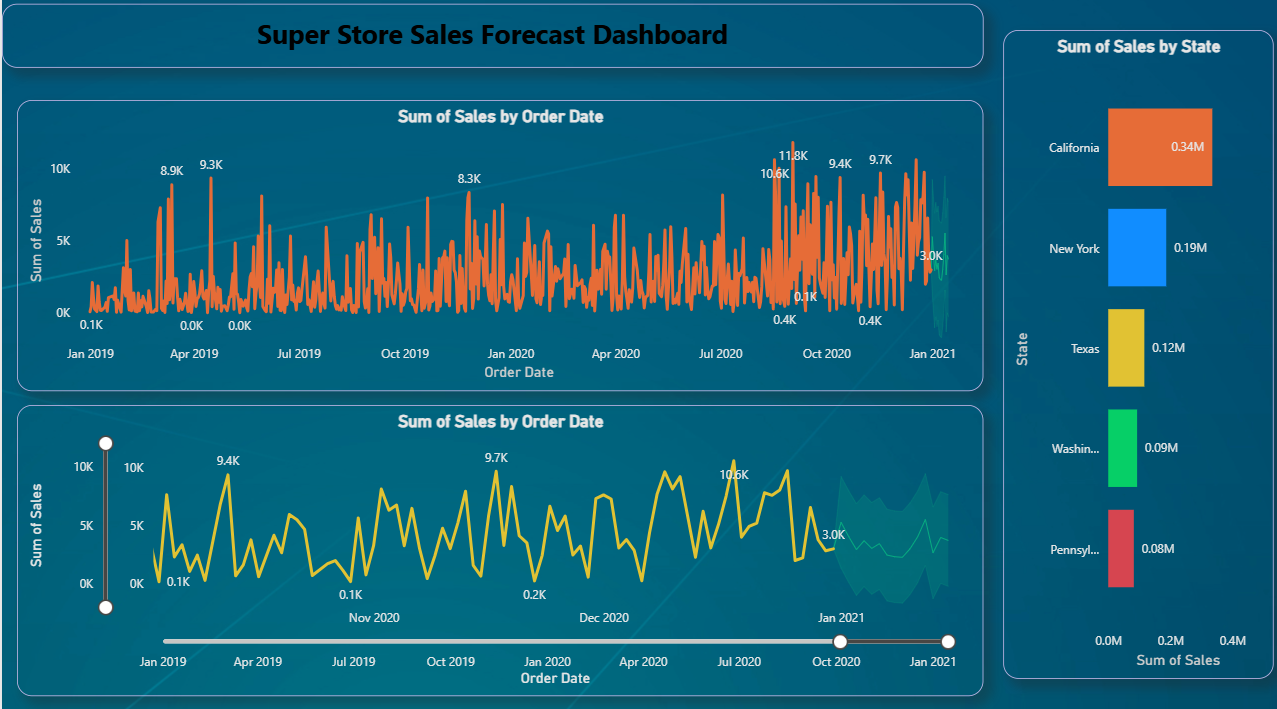

The page's visual inventory and layout, read from the dashboard file:
{"tool":"powerbi","page":{"name":"Sales Forecast","canvas":[1280,720],"ordinal":1},"visuals":[{"type":"lineChart","fields":{"Y":["Sum(SuperStore_Sales_Dataset.Sales)"],"Category":["SuperStore_Sales_Dataset.Order Date"]},"box":[15,105,966.2,291.2],"z":0},{"type":"lineChart","fields":{"Y":["Sum(SuperStore_Sales_Dataset.Sales)"],"Category":["SuperStore_Sales_Dataset.Order Date"]},"box":[15,410,966.2,291.2],"z":1},{"type":"textbox","box":[0,8.8,981.2,63.8],"z":2},{"type":"clusteredBarChart","fields":{"Y":["Sum(SuperStore_Sales_Dataset.Sales)"],"Category":["SuperStore_Sales_Dataset.State"]},"box":[1001.2,35,270,648.8],"z":3}]}

Visuals, with their boxes in screenshot pixels (x1, y1, x2, y2), scaled from the page's 1280x720 canvas onto the 1277x709 screenshot:
lineChart - Sum(SuperStore_Sales_Dataset.Sales) x SuperStore_Sales_Dataset.Order Date: x1=15, y1=103, x2=979, y2=390
lineChart - Sum(SuperStore_Sales_Dataset.Sales) x SuperStore_Sales_Dataset.Order Date: x1=15, y1=404, x2=979, y2=690
textbox: x1=0, y1=9, x2=979, y2=71
clusteredBarChart - Sum(SuperStore_Sales_Dataset.Sales) x SuperStore_Sales_Dataset.State: x1=999, y1=34, x2=1268, y2=673
